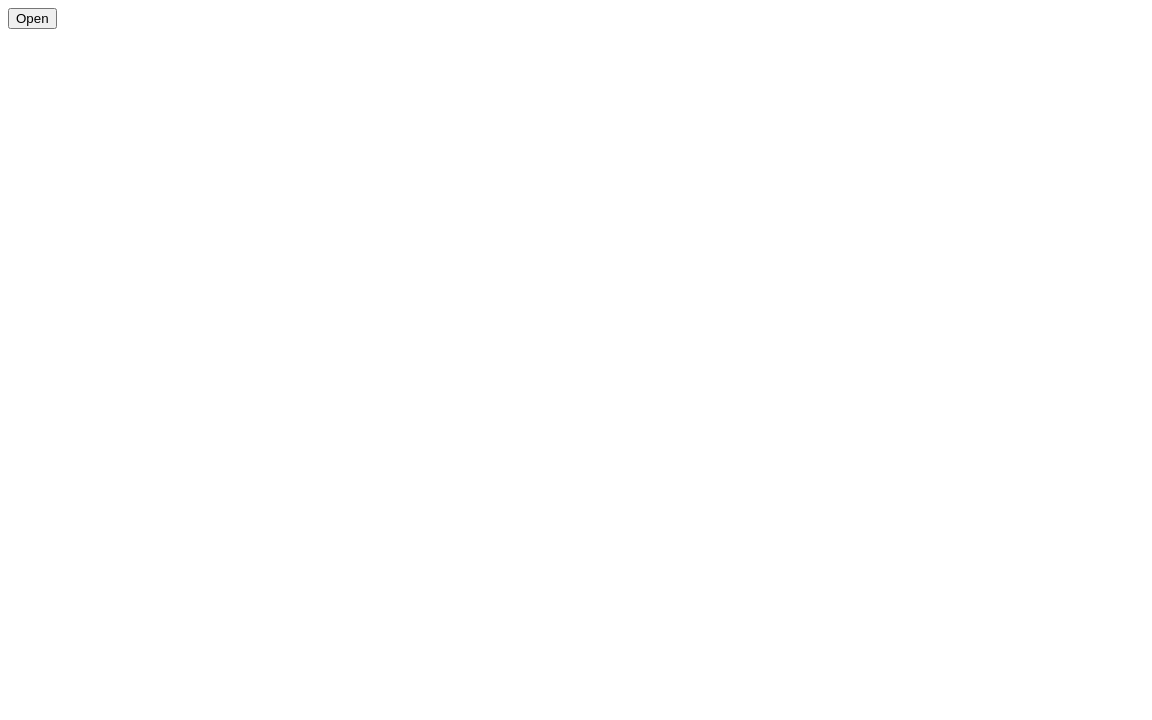
Scenario: opens from trigger and shows title as dialog name
Click the button "Open": point(32, 18) [8,8,57,29]
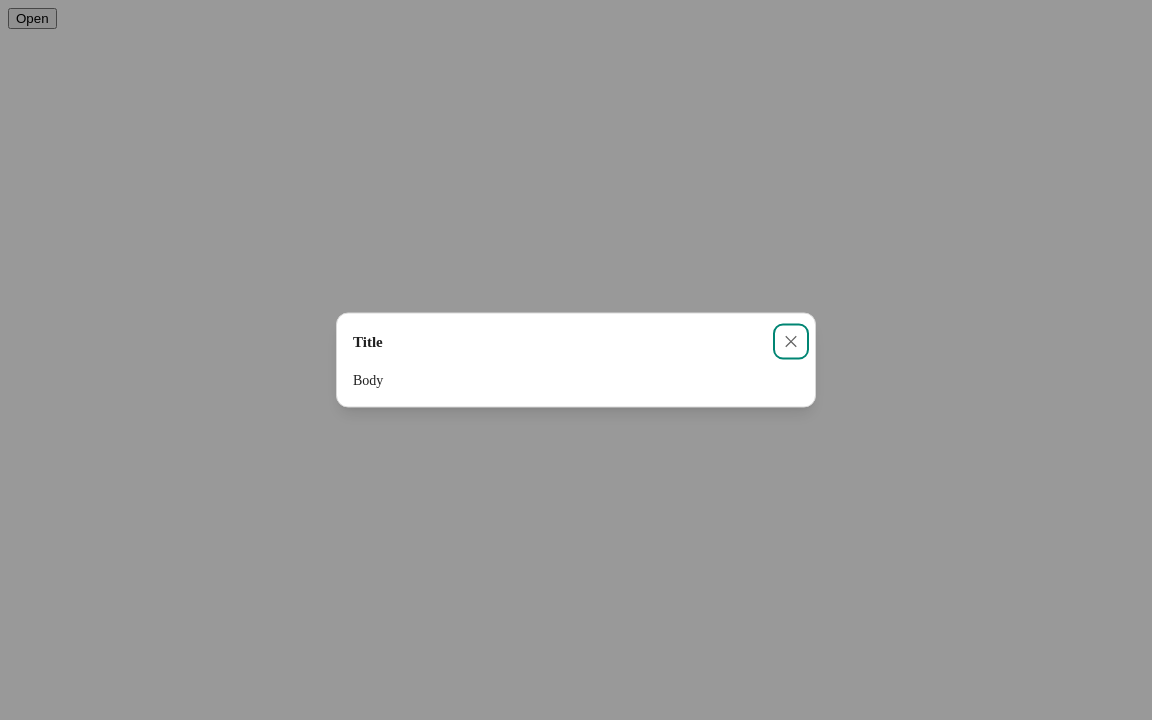
Expected: the dialog "Title" shows "Body", [353,372,383,388]
